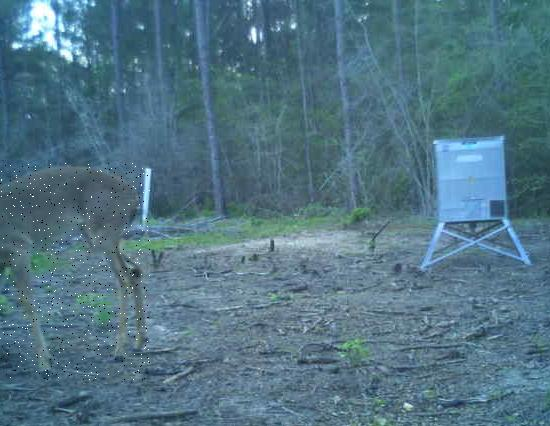Deer: (0, 163, 150, 380)
